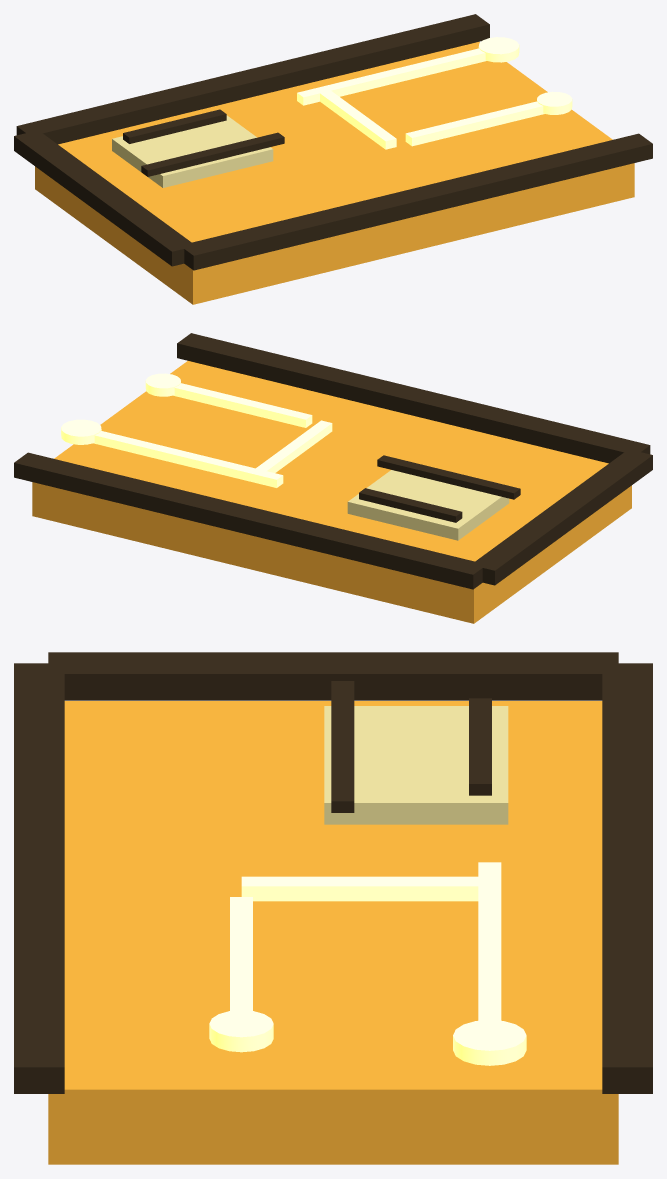
The model's file is keycard-cinematic.glb.
The picture shows the model from 3 angles, top to bottom: view 1: azimuth 30°, elevation 25°; view 2: azimuth 150°, elevation 25°; view 3: azimuth 270°, elevation 25°; orthographic projection. The views are drawn at different scales.
Parts seen in each view (by area): view 1: card-body, card-back-edge, card-front-edge, card-left-edge, card-chip, card-glow-main, card-glow-tail, card-chip-line-a, card-glow-branch, card-chip-line-b, card-node-a, card-node-b; view 2: card-body, card-front-edge, card-back-edge, card-left-edge, card-chip, card-glow-main, card-glow-tail, card-chip-line-a, card-chip-line-b, card-glow-branch, card-node-a, card-node-b; view 3: card-body, card-left-edge, card-back-edge, card-front-edge, card-chip, card-glow-branch, card-glow-main, card-chip-line-a, card-node-a, card-glow-tail, card-node-b, card-chip-line-b.
Part boxes in pixels (left/top/right/bottom): card-body: left=35, top=42, right=634, bottom=304; card-back-edge: left=180, top=133, right=652, bottom=270; card-front-edge: left=16, top=14, right=489, bottom=144; card-left-edge: left=14, top=130, right=194, bottom=266; card-chip: left=112, top=115, right=273, bottom=187; card-glow-main: left=297, top=48, right=486, bottom=105; card-glow-tail: left=405, top=101, right=544, bottom=146; card-chip-line-a: left=141, top=132, right=284, bottom=176; card-glow-branch: left=320, top=90, right=396, bottom=149; card-chip-line-b: left=123, top=109, right=226, bottom=143; card-node-a: left=478, top=37, right=519, bottom=62; card-node-b: left=537, top=91, right=572, bottom=114; card-body: left=32, top=361, right=631, bottom=623; card-front-edge: left=14, top=452, right=486, bottom=589; card-back-edge: left=177, top=333, right=650, bottom=463; card-left-edge: left=472, top=449, right=652, bottom=585; card-chip: left=347, top=470, right=509, bottom=540; card-glow-main: left=94, top=431, right=283, bottom=487; card-glow-tail: left=173, top=383, right=312, bottom=427; card-chip-line-a: left=377, top=455, right=520, bottom=499; card-chip-line-b: left=359, top=488, right=462, bottom=522; card-glow-branch: left=254, top=420, right=332, bottom=475; card-node-a: left=61, top=419, right=101, bottom=444; card-node-b: left=145, top=373, right=180, bottom=396; card-body: left=48, top=701, right=618, bottom=1164; card-left-edge: left=48, top=652, right=618, bottom=700; card-back-edge: left=14, top=663, right=64, bottom=1093; card-front-edge: left=602, top=663, right=652, bottom=1093; card-chip: left=324, top=706, right=508, bottom=824; card-glow-branch: left=241, top=876, right=498, bottom=901; card-glow-main: left=478, top=862, right=501, bottom=1020; card-chip-line-a: left=331, top=681, right=354, bottom=812; card-node-a: left=453, top=1020, right=526, bottom=1065; card-glow-tail: left=230, top=897, right=252, bottom=1010; card-node-b: left=209, top=1010, right=273, bottom=1052; card-chip-line-b: left=469, top=698, right=491, bottom=795.
Size of the model in its own units: 1.07 by 0.149 by 0.695.
